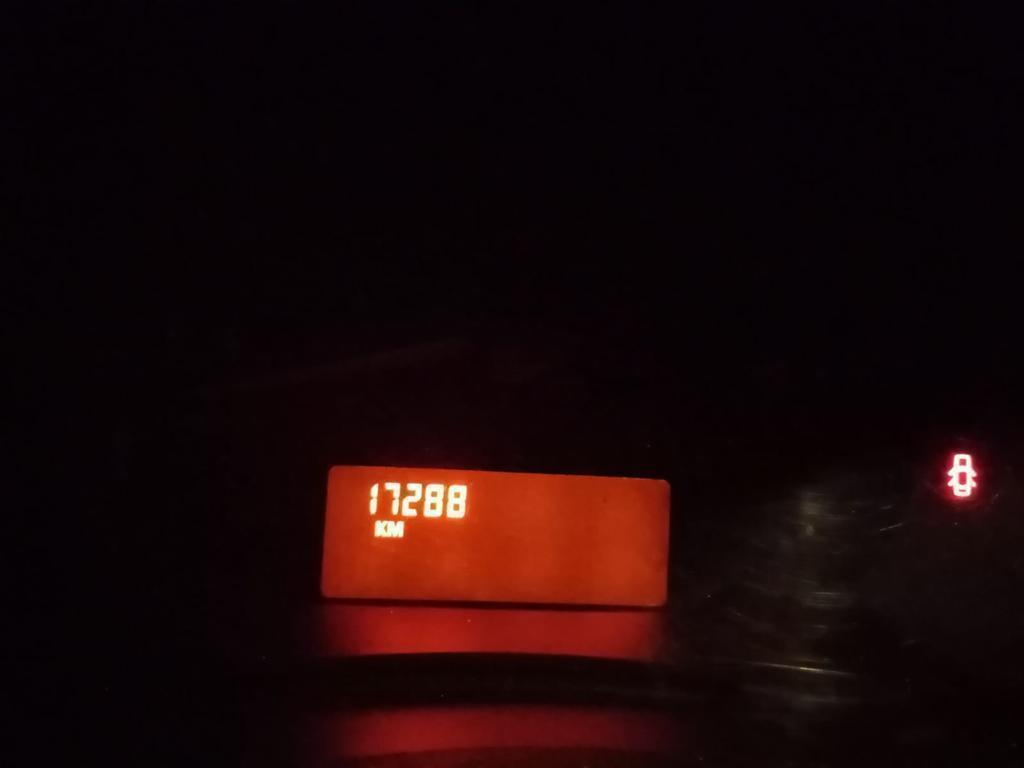1: (364, 481, 380, 516)
2: (401, 480, 422, 518)
7: (382, 480, 400, 516)
8: (445, 483, 467, 519), (423, 482, 444, 518)
X: (387, 519, 404, 539), (372, 519, 387, 538)
odometer: (313, 459, 677, 613)
